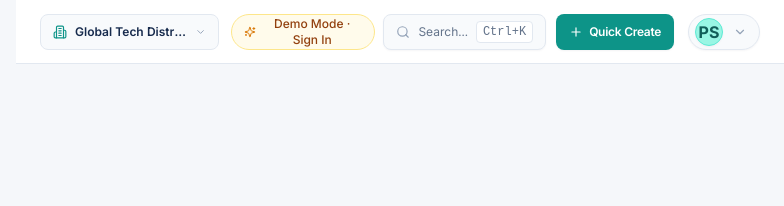
Atlas OS Navigation, Identity Fallbacks & Role-Based Access › Organization Location Presentation & Neutral Fallbacks › displays neutral "Location not set" in Header organization dropdown when org location is missing
Note: Open org dropdown
Click the button "Global Tech Distributors".
click(130, 32)  # box 40,14 -> 219,50
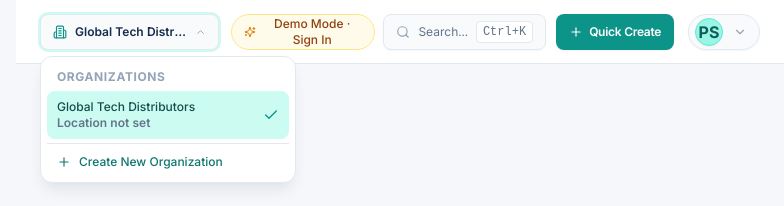
Now the text "Location not set" is shown, box 57,114 -> 150,130
